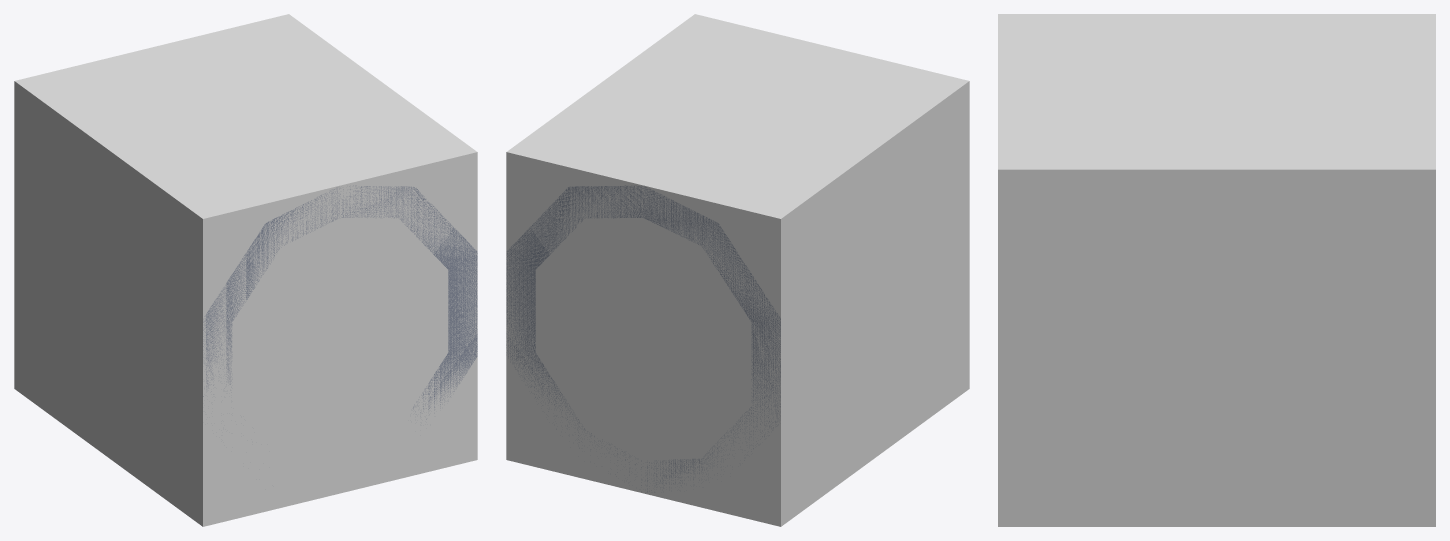
The model's file is Cassette.002.fbx.
The picture shows the model from 3 angles, left to right: view 1: azimuth 30°, elevation 25°; view 2: azimuth 150°, elevation 25°; view 3: azimuth 270°, elevation 25°; orthographic projection. The views are drawn at different scales.
Visible parts, largest first — view 1: Cassette.002_COL0, Cassette.002_LOD0; view 2: Cassette.002_COL0, Cassette.002_LOD0; view 3: Cassette.002_COL0.
Boxes of the visible parts, x1=… form: Cassette.002_COL0: x1=14, y1=14, x2=477, y2=526; Cassette.002_LOD0: x1=203, y1=185, x2=477, y2=419; Cassette.002_COL0: x1=506, y1=14, x2=969, y2=526; Cassette.002_LOD0: x1=506, y1=185, x2=780, y2=492; Cassette.002_COL0: x1=998, y1=14, x2=1435, y2=526.
Size of what is drawn, in the model's own units: 0.0262 by 0.0281 by 0.0312.
